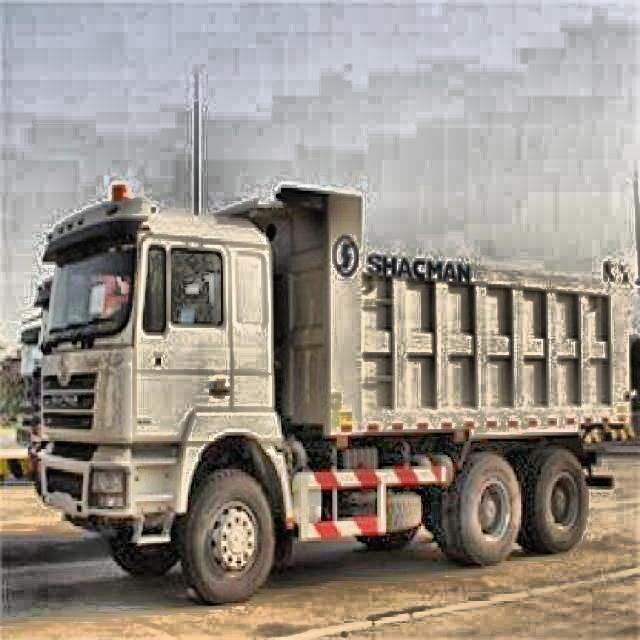dump_truck: (30, 180, 636, 606)
